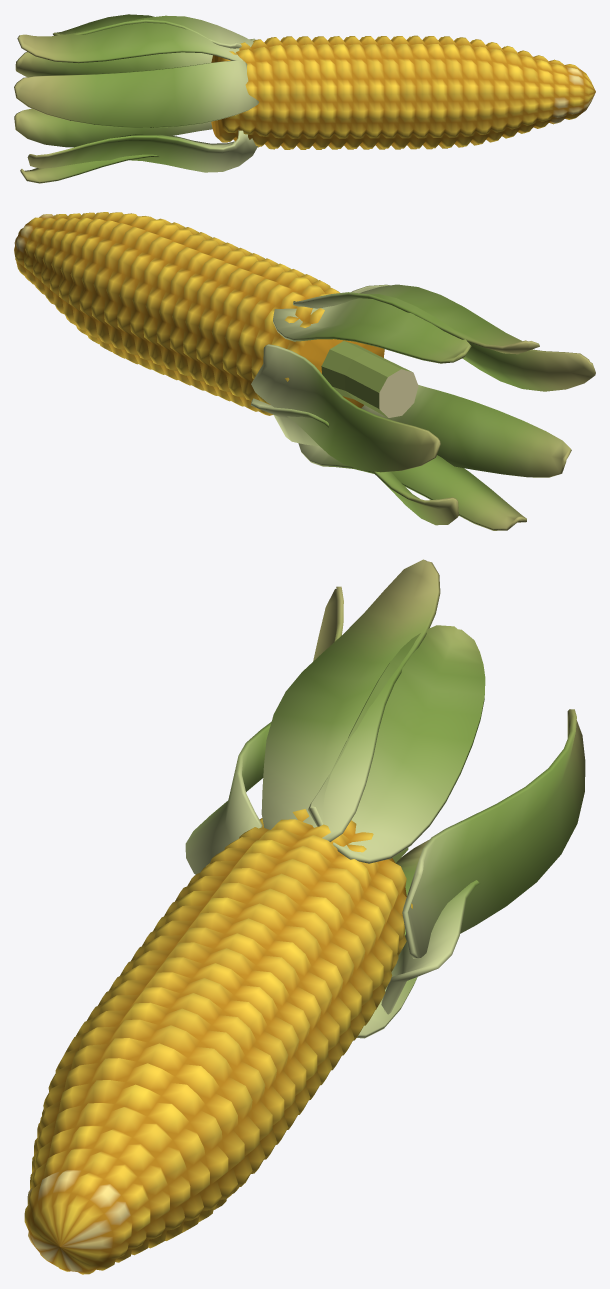
The model's file is corn.glb.
3 views of the same model, one above another, from view 1: azimuth 30°, elevation 25°; view 2: azimuth 150°, elevation 25°; view 3: azimuth 270°, elevation 25° (orthographic). The views are drawn at different scales.
Parts seen in each view (by area): view 1: Corn_Cob, Corn_Husk; view 2: Corn_Husk, Corn_Cob, Corn_Stalk; view 3: Corn_Cob, Corn_Husk.
Part boxes in pixels (left/top/right/bottom): Corn_Cob: left=211, top=35, right=595, bottom=149; Corn_Husk: left=14, top=14, right=258, bottom=183; Corn_Husk: left=251, top=284, right=595, bottom=530; Corn_Cob: left=14, top=212, right=384, bottom=415; Corn_Stalk: left=321, top=341, right=418, bottom=417; Corn_Cob: left=24, top=809, right=412, bottom=1274; Corn_Husk: left=185, top=559, right=585, bottom=1038.
Size of the model in its own units: 0.2533 by 0.0697 by 0.1201.
